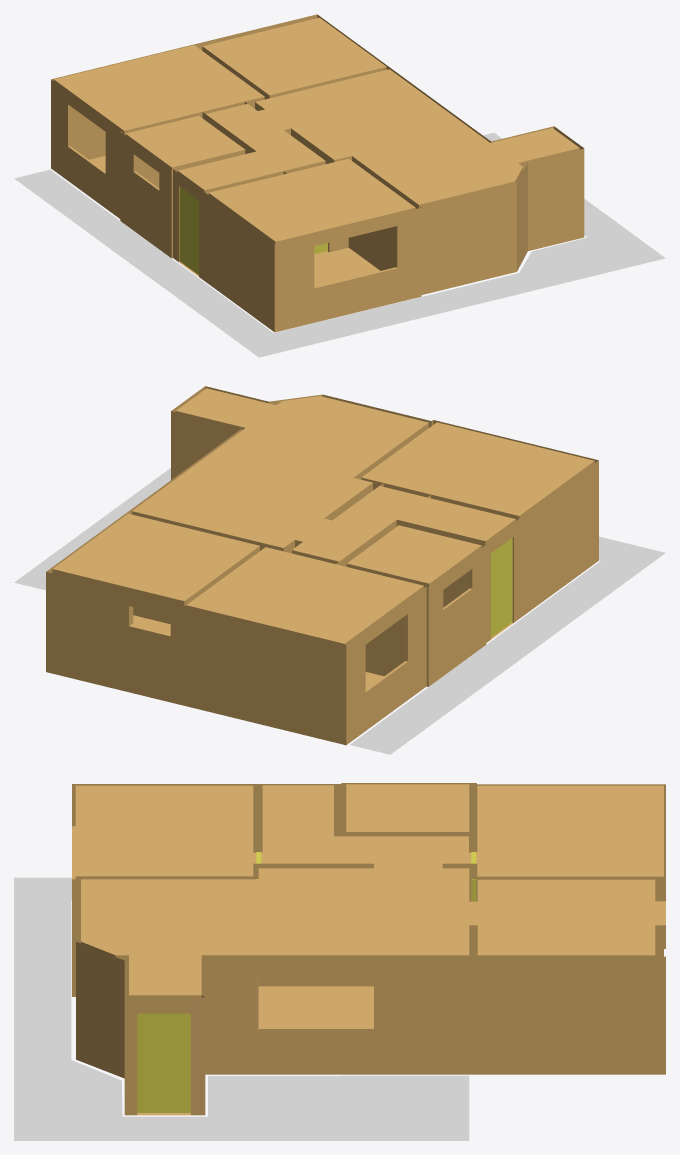
File: GrayboxingCasa_ProyectPharus.fbx
3 renders of one model, top to bottom at view 1: azimuth 30°, elevation 25°; view 2: azimuth 150°, elevation 25°; view 3: azimuth 270°, elevation 25°, orthographic. The views are drawn at different scales.
Visible parts, largest first — view 1: casa, Parque, PuertaTrasera; view 2: casa, Parque, PuertaTrasera; view 3: casa, Parque, PuertaDelantera.
Boxes of the visible parts, left/top/right/bottom form: casa: left=51, top=14, right=584, bottom=332; Parque: left=14, top=132, right=665, bottom=357; PuertaTrasera: left=179, top=186, right=198, bottom=274; casa: left=46, top=386, right=598, bottom=745; Parque: left=14, top=468, right=665, bottom=754; PuertaTrasera: left=491, top=538, right=512, bottom=637; casa: left=72, top=783, right=665, bottom=1115; Parque: left=14, top=877, right=469, bottom=1140; PuertaDelantera: left=137, top=1013, right=190, bottom=1112.
Size of the model in its own units: 702 by 147 by 735.
